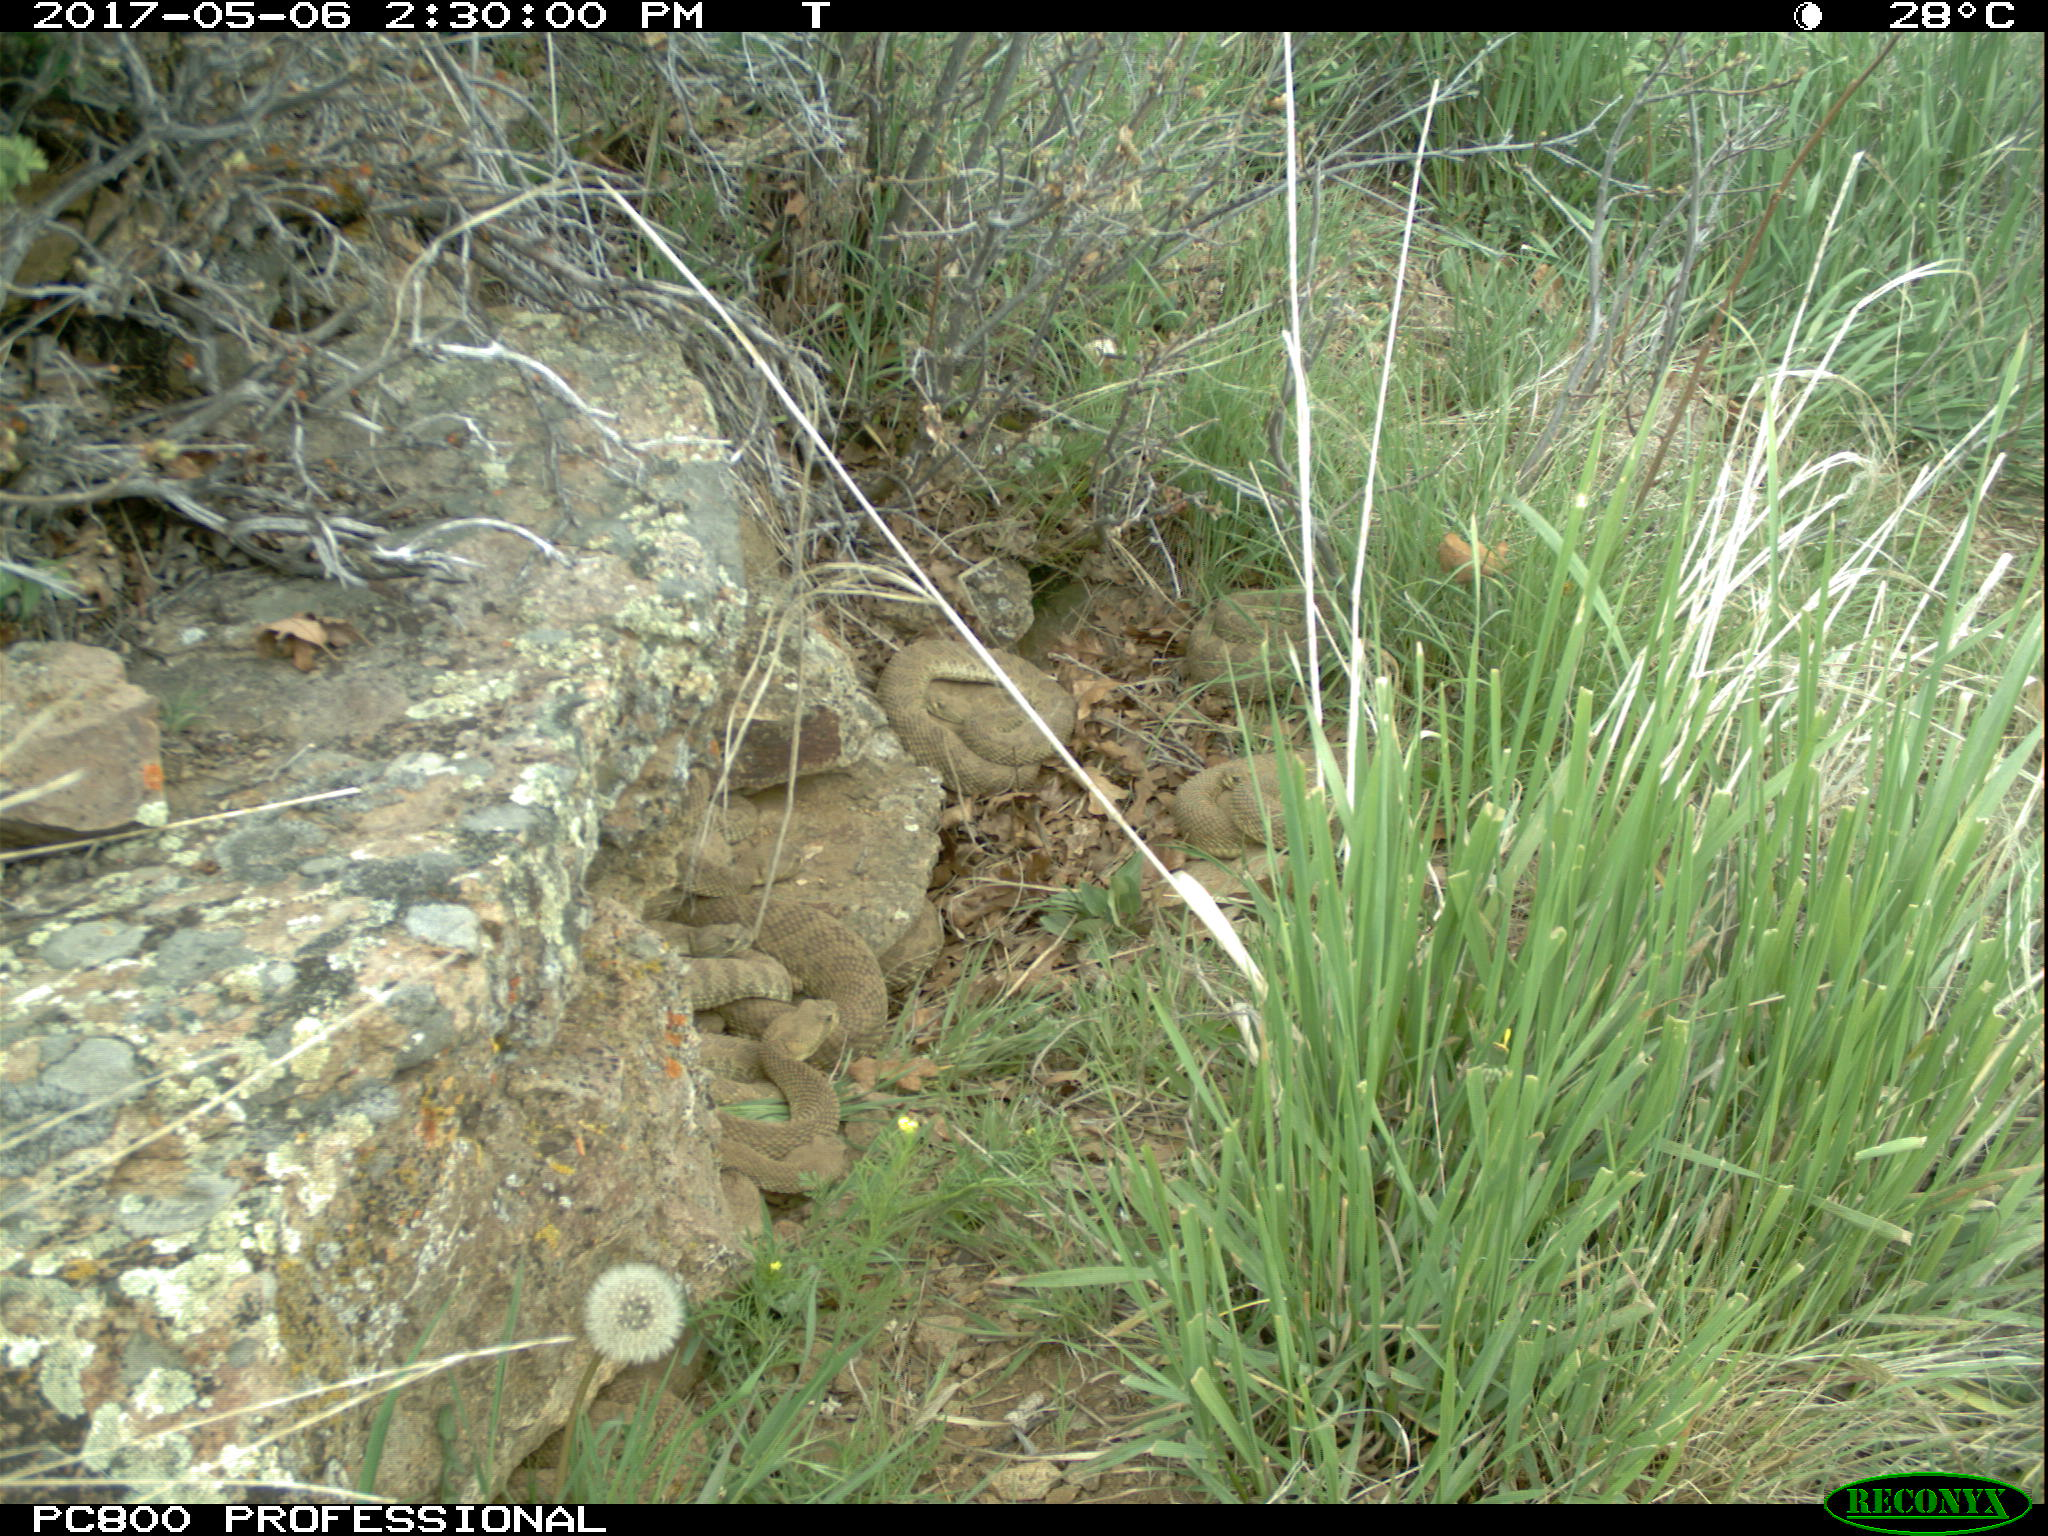snake: (656, 797, 893, 1055), (698, 995, 864, 1200), (885, 631, 1076, 797), (521, 1368, 710, 1497), (1169, 747, 1342, 884), (1180, 581, 1353, 700)
